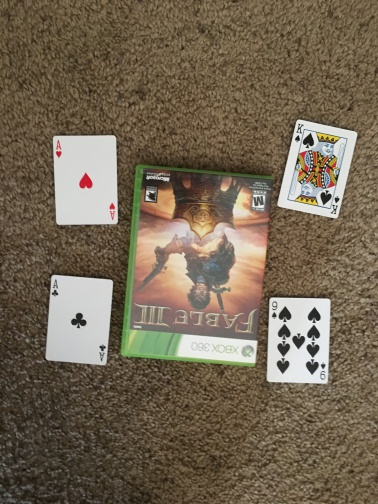ace: (44, 272, 114, 367), (50, 132, 120, 225)
king: (276, 117, 358, 221)
nine: (264, 296, 331, 385)
